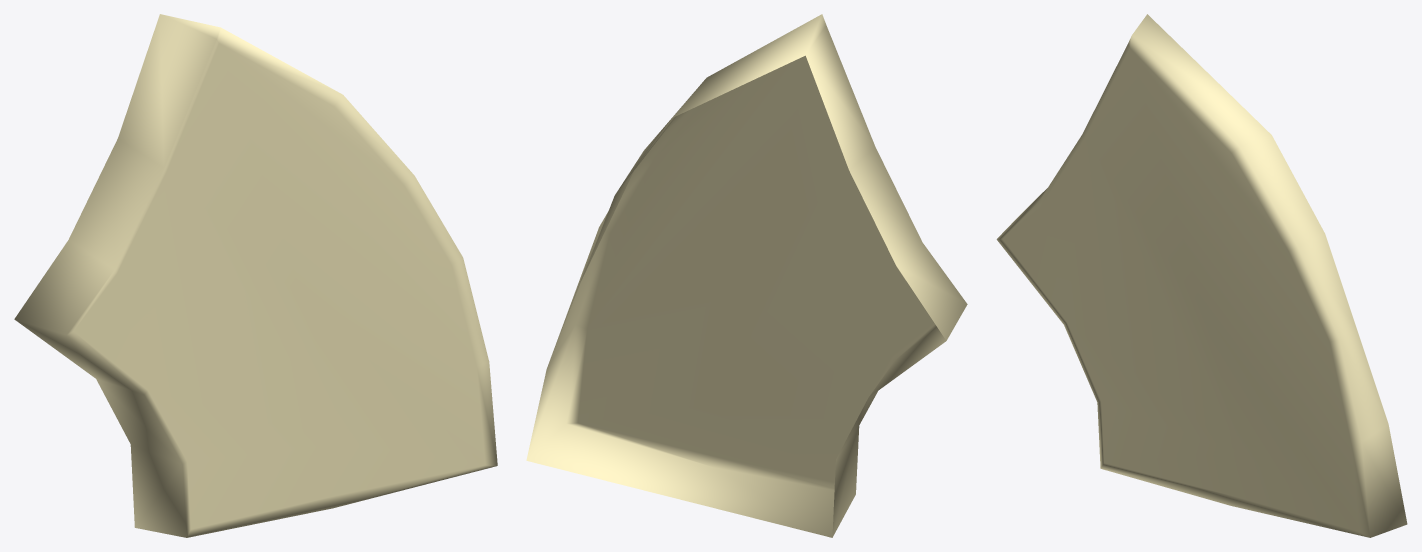
File: ui_radialMenu_6_topRight.glb
The picture shows the model from 3 angles, left to right: view 1: azimuth 30°, elevation 25°; view 2: azimuth 150°, elevation 25°; view 3: azimuth 330°, elevation 25°; orthographic projection. The views are drawn at different scales.
Parts seen in each view (by area): view 1: main6_topRight; view 2: main6_topRight; view 3: main6_topRight.
Part boxes in pixels (bbox=[...]): main6_topRight: bbox=[14, 14, 497, 537]; main6_topRight: bbox=[526, 14, 967, 537]; main6_topRight: bbox=[996, 14, 1407, 537].
Size of the model in its own units: 0.8029 by 0.8855 by 0.1328.
